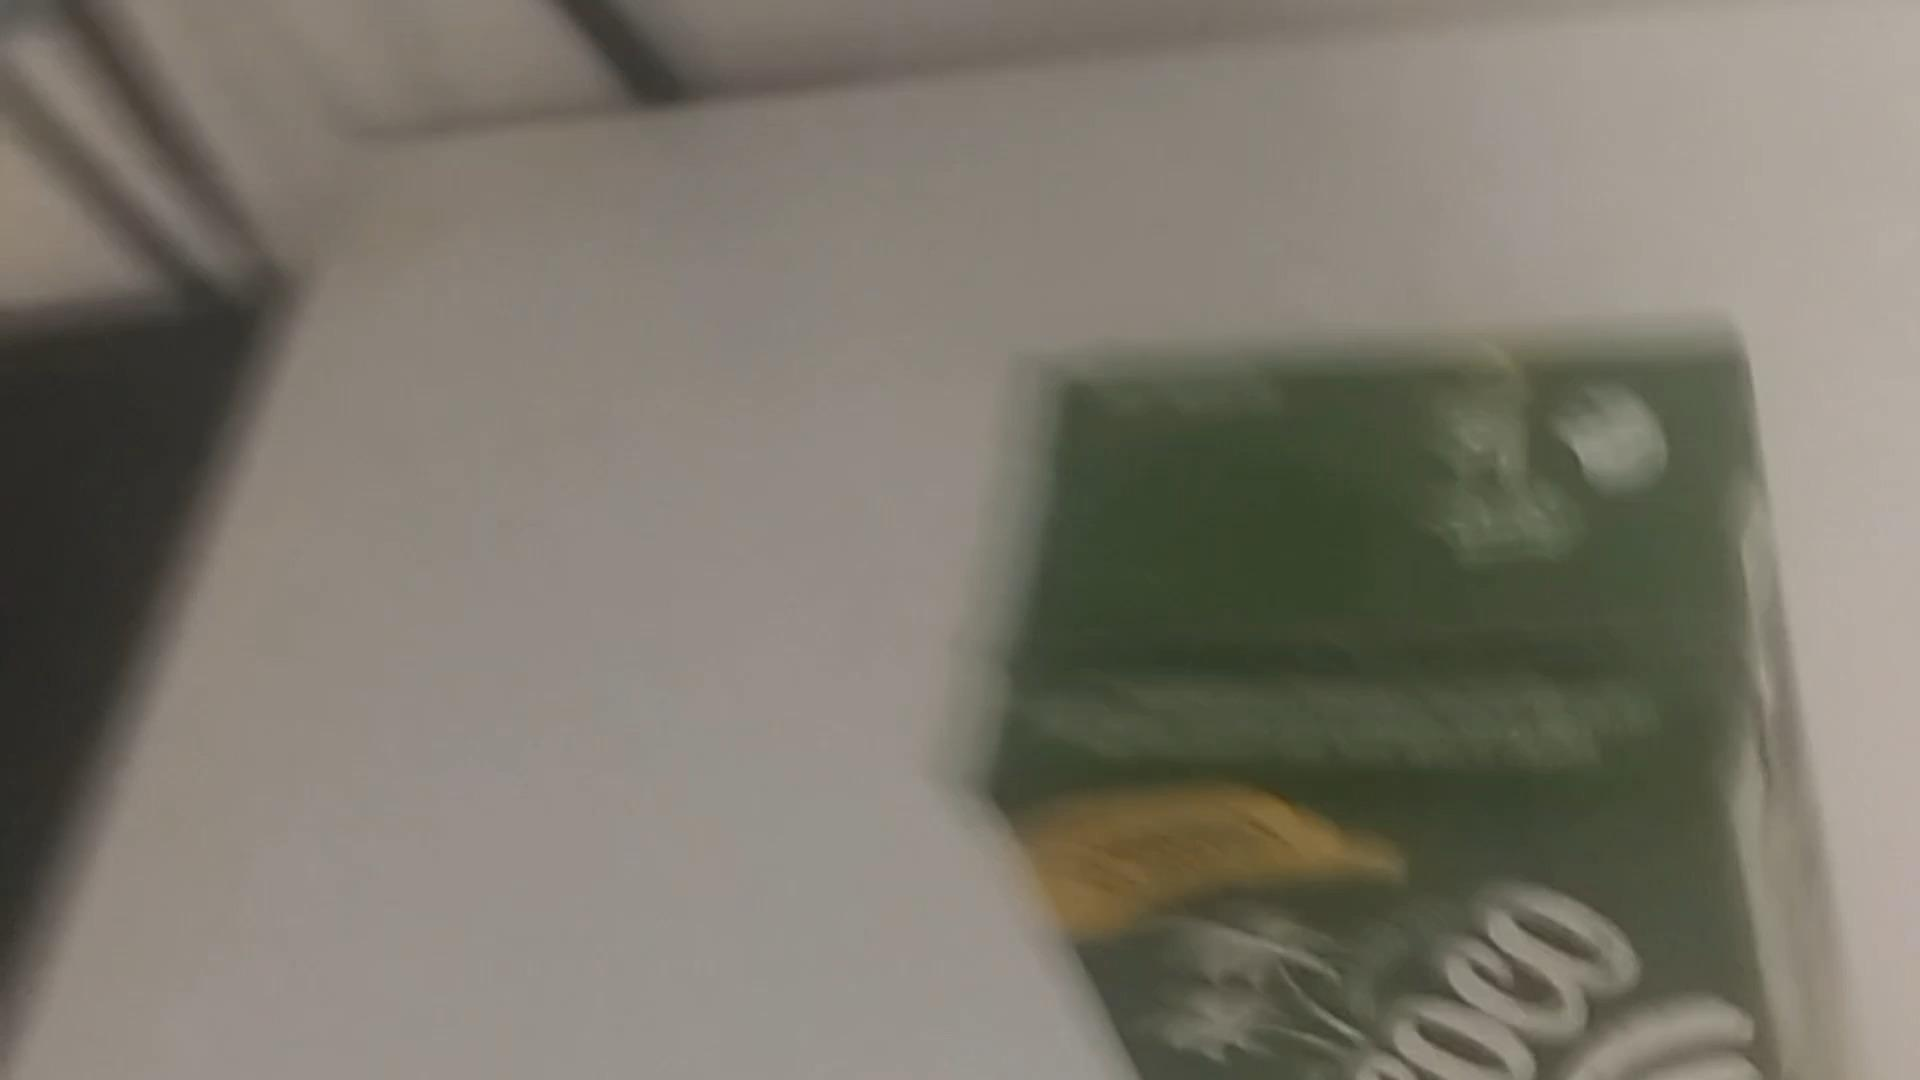coco: (988, 313, 1873, 1080)
